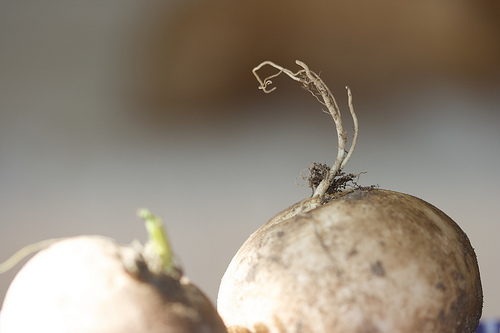turnip: (217, 56, 481, 331), (0, 206, 229, 332)
